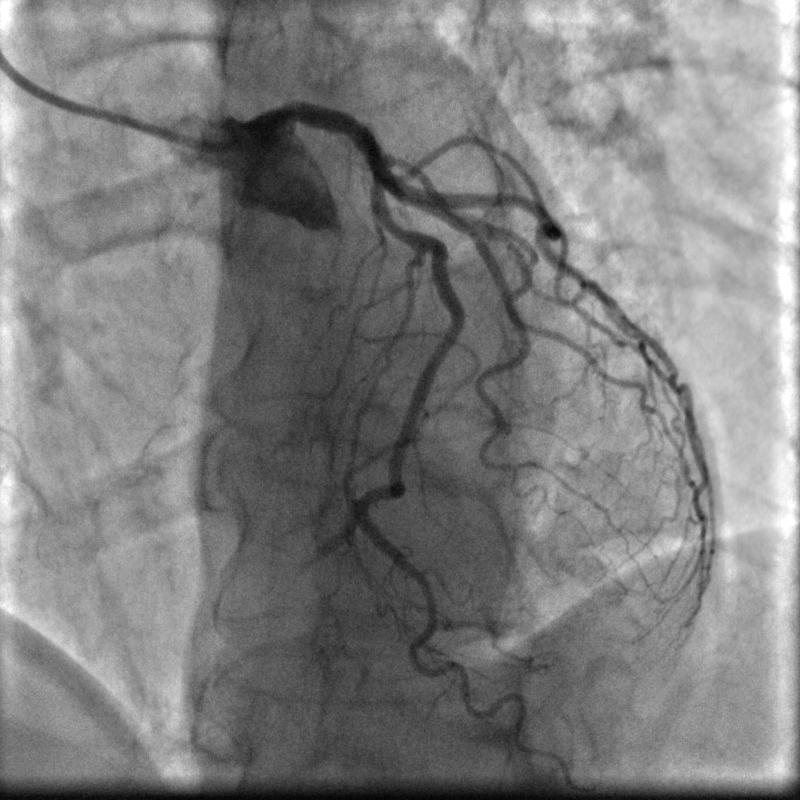Stenosis: (380, 215, 408, 236)
